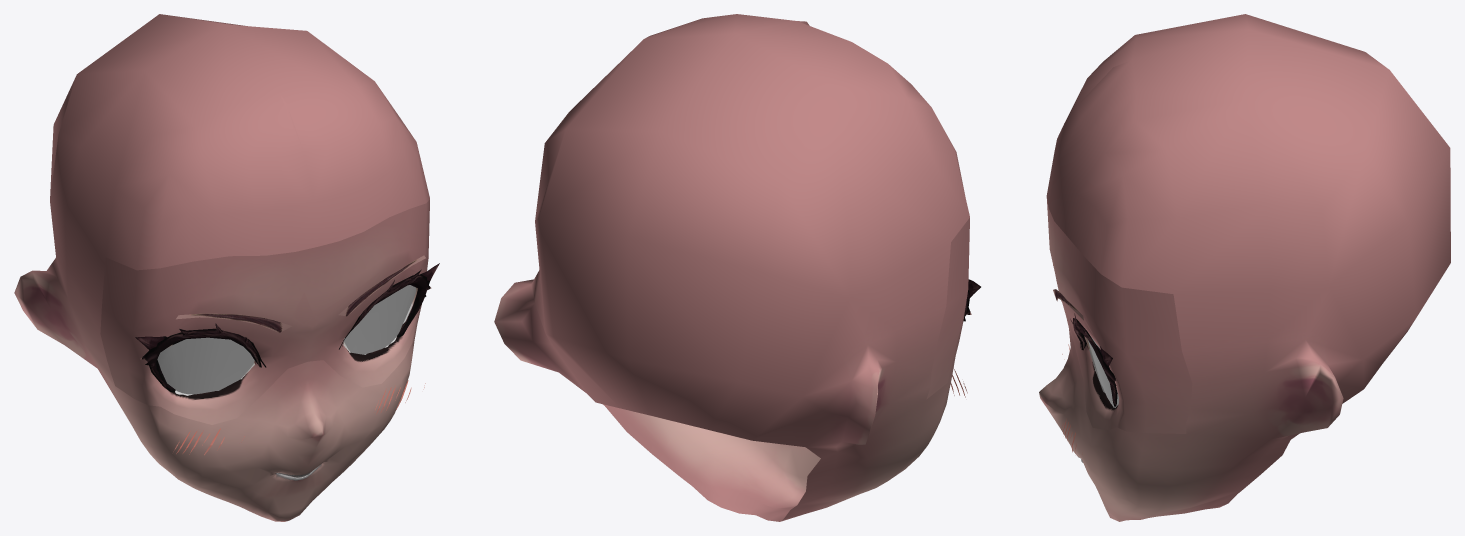
The model's file is AvatarWing_v1.0.fbx.
3 renders of one model, left to right at view 1: azimuth 30°, elevation 25°; view 2: azimuth 150°, elevation 25°; view 3: azimuth 270°, elevation 25°, orthographic. The views are drawn at different scales.
Visible parts, largest first — view 1: Face_A, FaceB, Eye, Lash, Brow; view 2: Face_A, FaceB; view 3: Face_A, FaceB, Lash.
Boxes of the visible parts, x1=… form: Face_A: x1=14, y1=14, x2=429, y2=521; FaceB: x1=100, y1=199, x2=429, y2=424; Eye: x1=157, y1=285, x2=416, y2=394; Lash: x1=135, y1=263, x2=439, y2=392; Brow: x1=176, y1=255, x2=425, y2=332; Face_A: x1=494, y1=14, x2=969, y2=521; FaceB: x1=926, y1=218, x2=969, y2=399; Face_A: x1=1039, y1=14, x2=1450, y2=521; FaceB: x1=1046, y1=197, x2=1192, y2=433; Lash: x1=1070, y1=313, x2=1117, y2=407.
Bounding box in the file's own units: 1.3 × 1.55 × 1.18.
